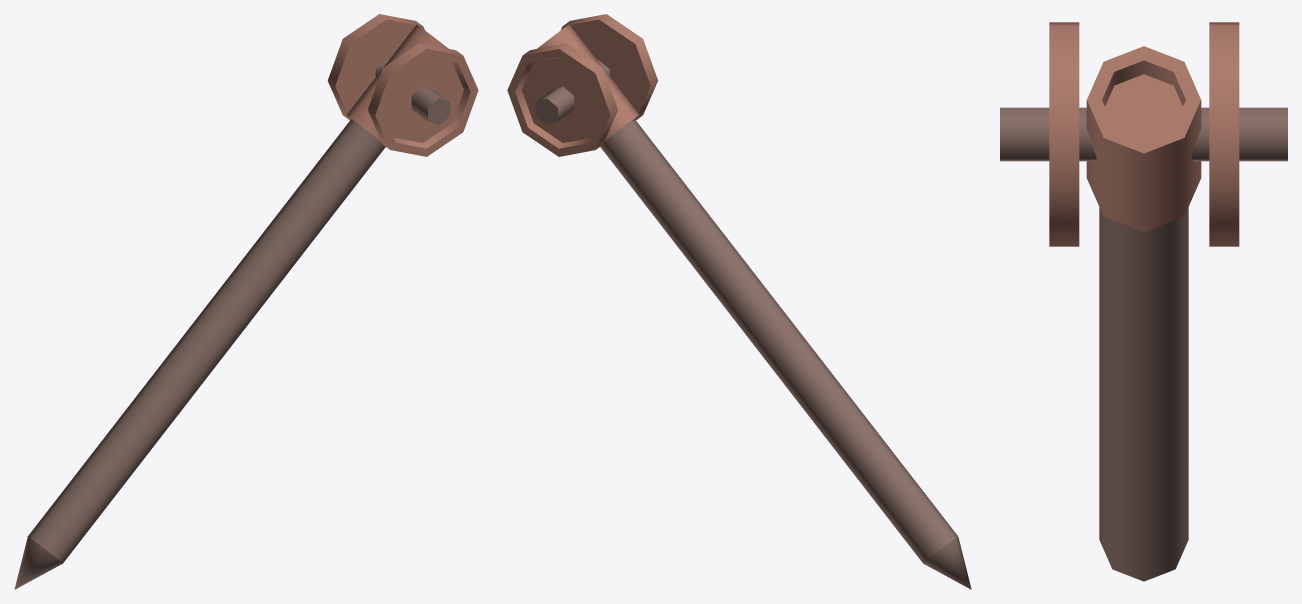
Rendered from n4_crane_wheel_002_lev4.glb.
3 renders of one model, left to right at view 1: azimuth 30°, elevation 25°; view 2: azimuth 150°, elevation 25°; view 3: azimuth 270°, elevation 25°, orthographic. The views are drawn at different scales.
Visible parts, largest first — view 1: n4_crane_wheel_002_lev4; view 2: n4_crane_wheel_002_lev4; view 3: n4_crane_wheel_002_lev4.
Part boxes in pixels (<box>): n4_crane_wheel_002_lev4: <box>14,14,478,589</box>; n4_crane_wheel_002_lev4: <box>507,14,971,589</box>; n4_crane_wheel_002_lev4: <box>1000,22,1287,581</box>.
Size of the model in its own units: 2.15 by 2.16 by 0.6068.
1 material, 1 textured.
